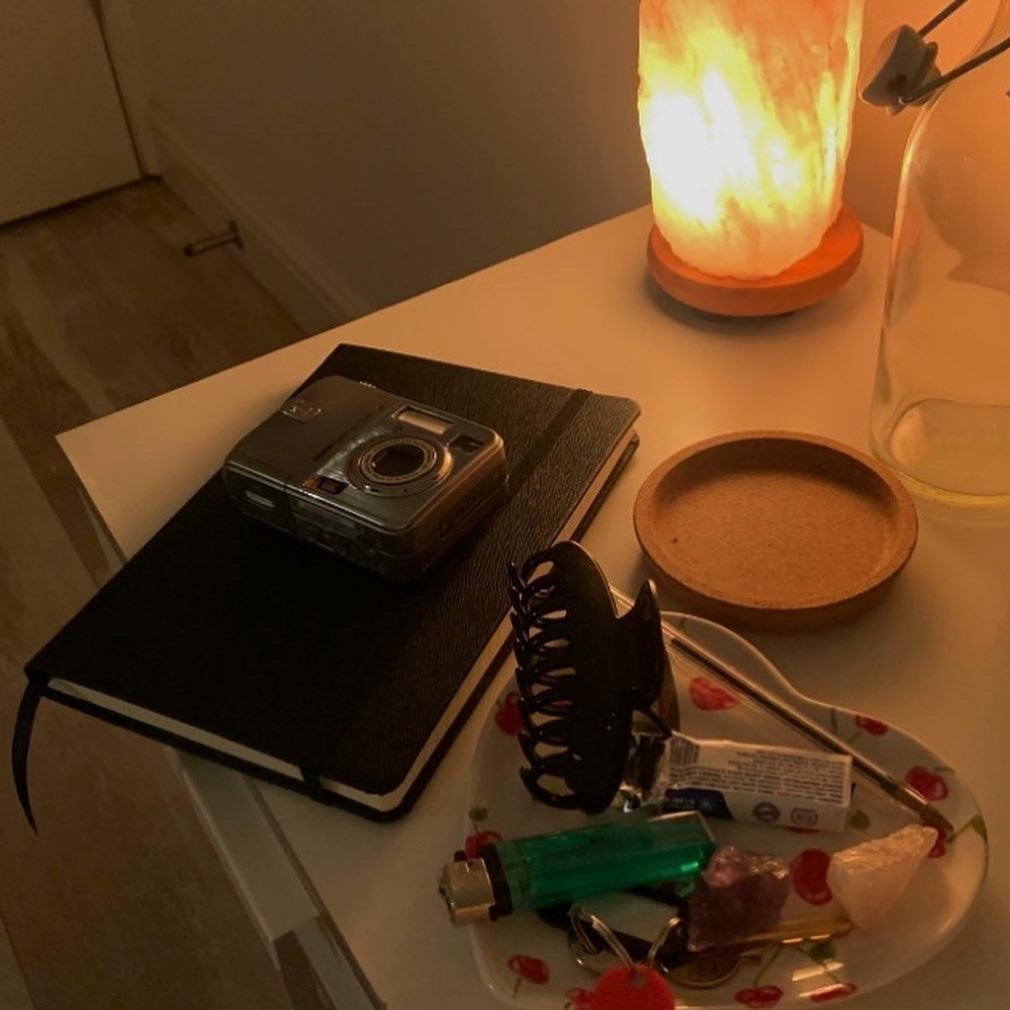not a gesture sign: (278, 366, 493, 620)
